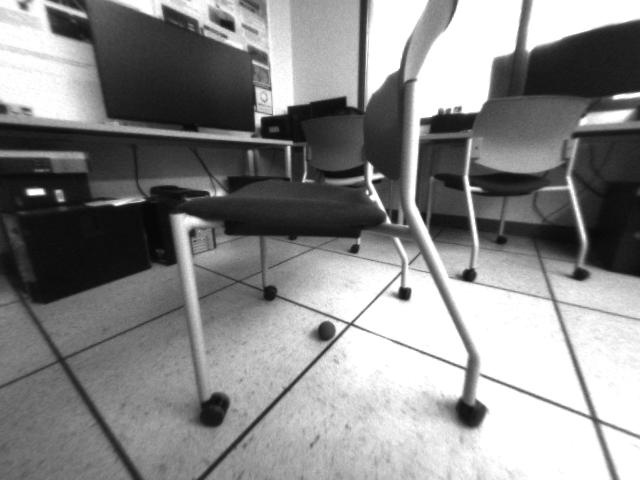dogtoy: (311, 316, 342, 344)
